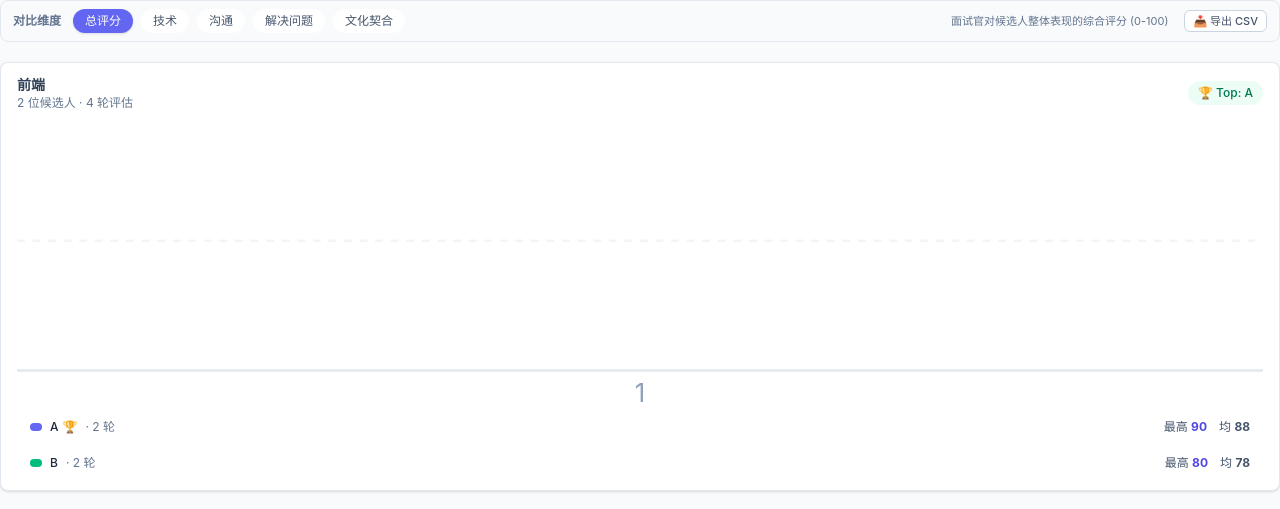
Test: ComparisonMatrix — metric switcher › switching to "technical" updates aria-checked + reorders top scorer + per-row best
This screenshot has width=1280, height=509.
Expected: the text with test id "comparison-top-scorer-前端" shows "A", [1244,85,1253,100]
Expected: the element with test id "comparison-best-ct_a" shows "90", [1191,419,1207,434]
// Switch to technical
Click the radio button with test id "comparison-metric-technical".
click(165, 21)  # box [141,9,189,33]
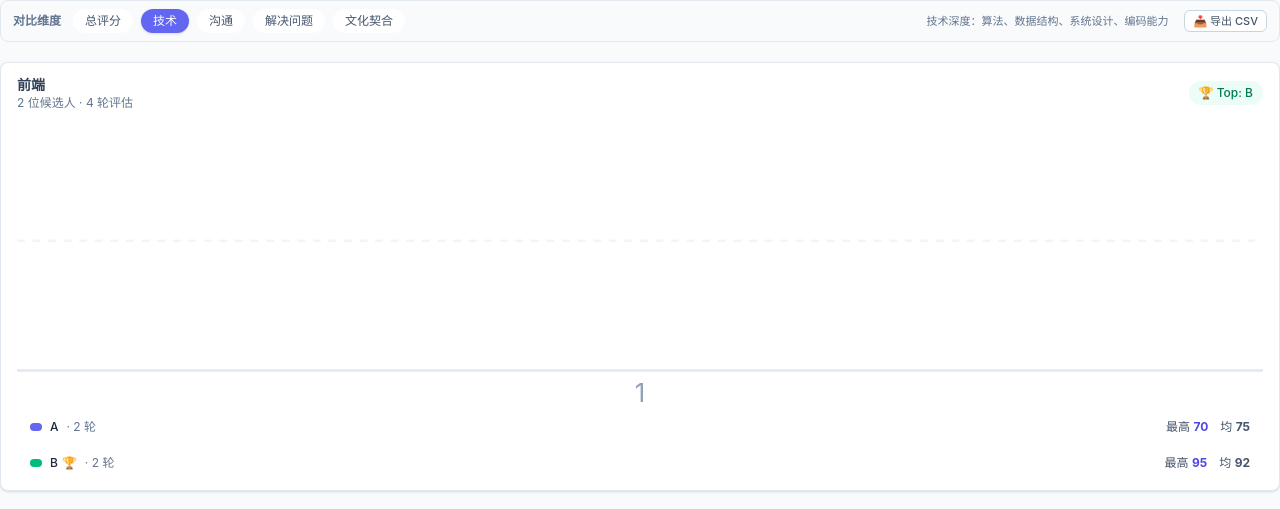
Expected: the text with test id "comparison-top-scorer-前端" shows "B", [1245,85,1253,100]
Expected: the element with test id "comparison-best-ct_a" shows "70", [1193,419,1208,434]
Expected: the element with test id "comparison-best-ct_b" shows "95", [1192,455,1207,470]
